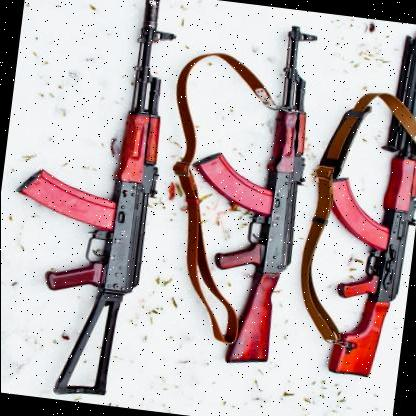rifle: (0, 0, 195, 400), (160, 13, 334, 376), (288, 13, 416, 379)
